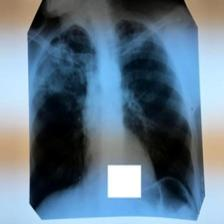tuberculosis: (29, 11, 200, 214)
